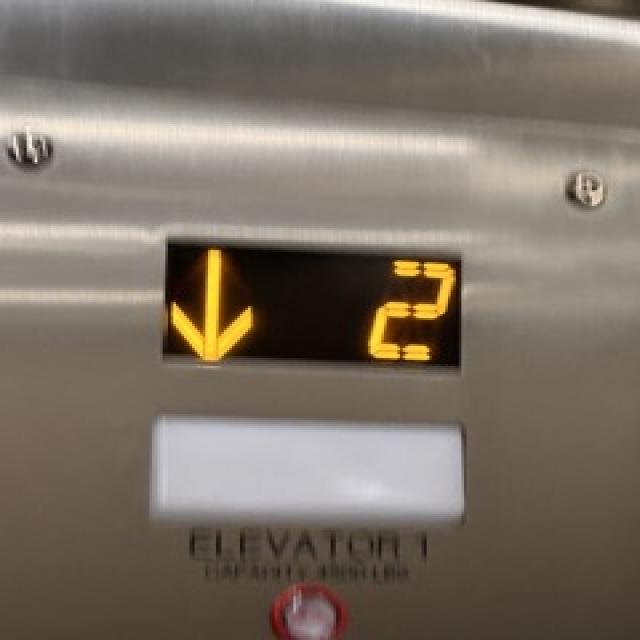box: (109, 210, 480, 376)
